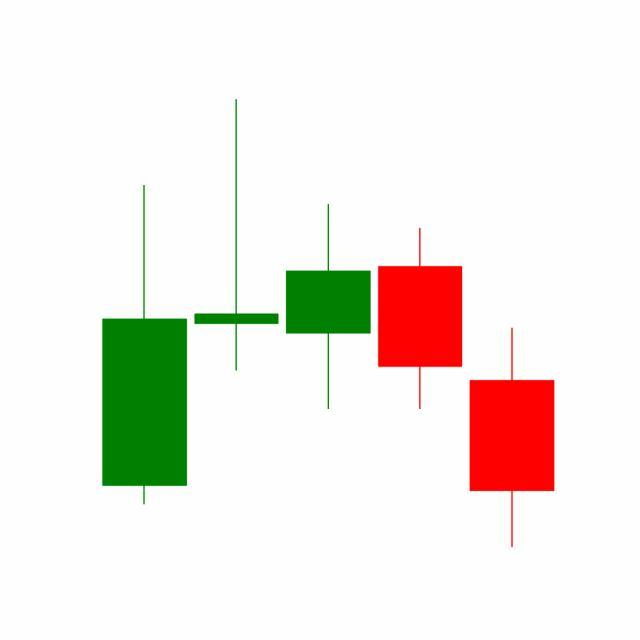Three Outside Up-Down: (280, 200, 555, 549)
